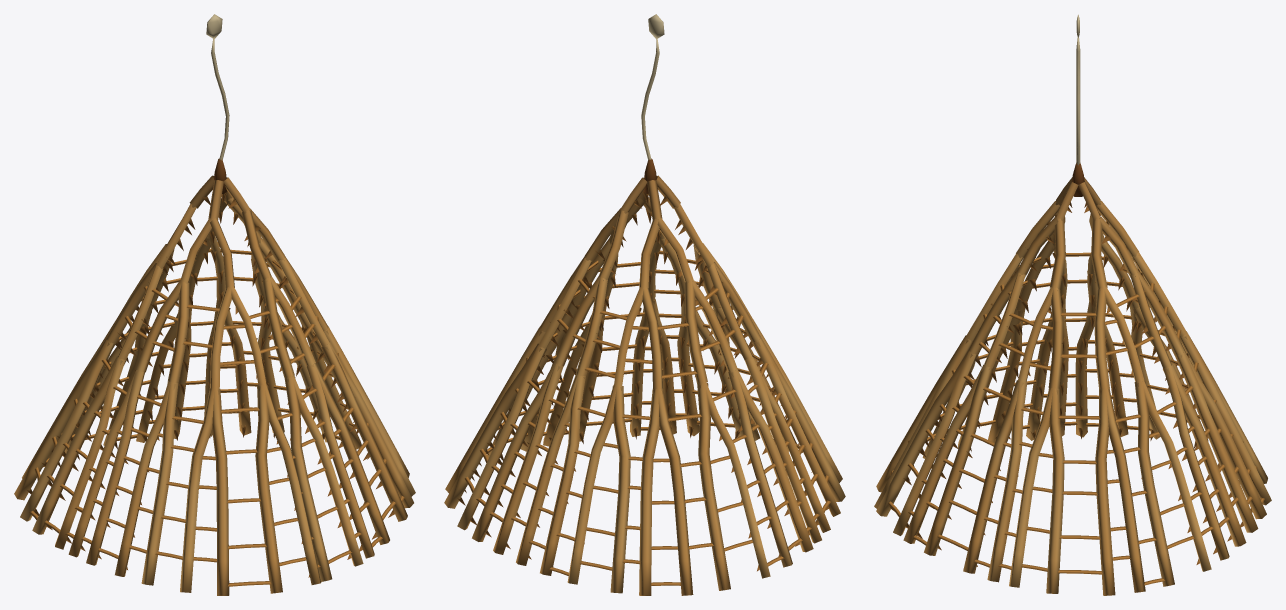
Rendered from Dictyonema.fbx.
3 views of the same model, side by side, from view 1: azimuth 30°, elevation 25°; view 2: azimuth 150°, elevation 25°; view 3: azimuth 270°, elevation 25° (orthographic).
Visible parts, largest first — view 1: Dictyonema; view 2: Dictyonema; view 3: Dictyonema.
Boxes of the visible parts, left/top/right/bottom form: Dictyonema: left=14, top=14, right=415, bottom=595; Dictyonema: left=444, top=14, right=845, bottom=595; Dictyonema: left=874, top=14, right=1271, bottom=595.
Size of the model in its own units: 1.13 by 1.57 by 1.14.
